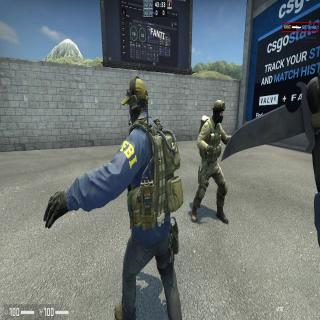CT-Body: (125, 78, 172, 320), (200, 100, 227, 222)
CT-Head: (126, 78, 148, 118), (213, 100, 225, 122)
